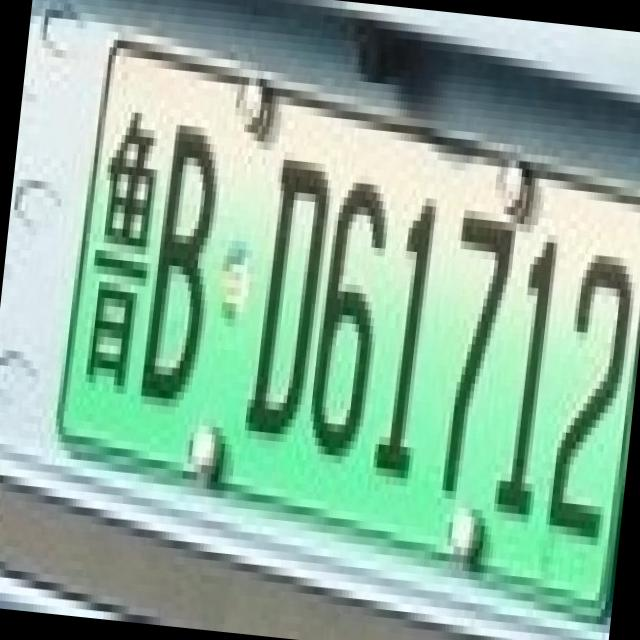1: (478, 206, 572, 516), (358, 162, 448, 472)
2: (533, 228, 640, 546)
6: (296, 156, 398, 458)
7: (417, 184, 523, 496)
B: (130, 100, 228, 402)
D: (232, 133, 338, 444)
